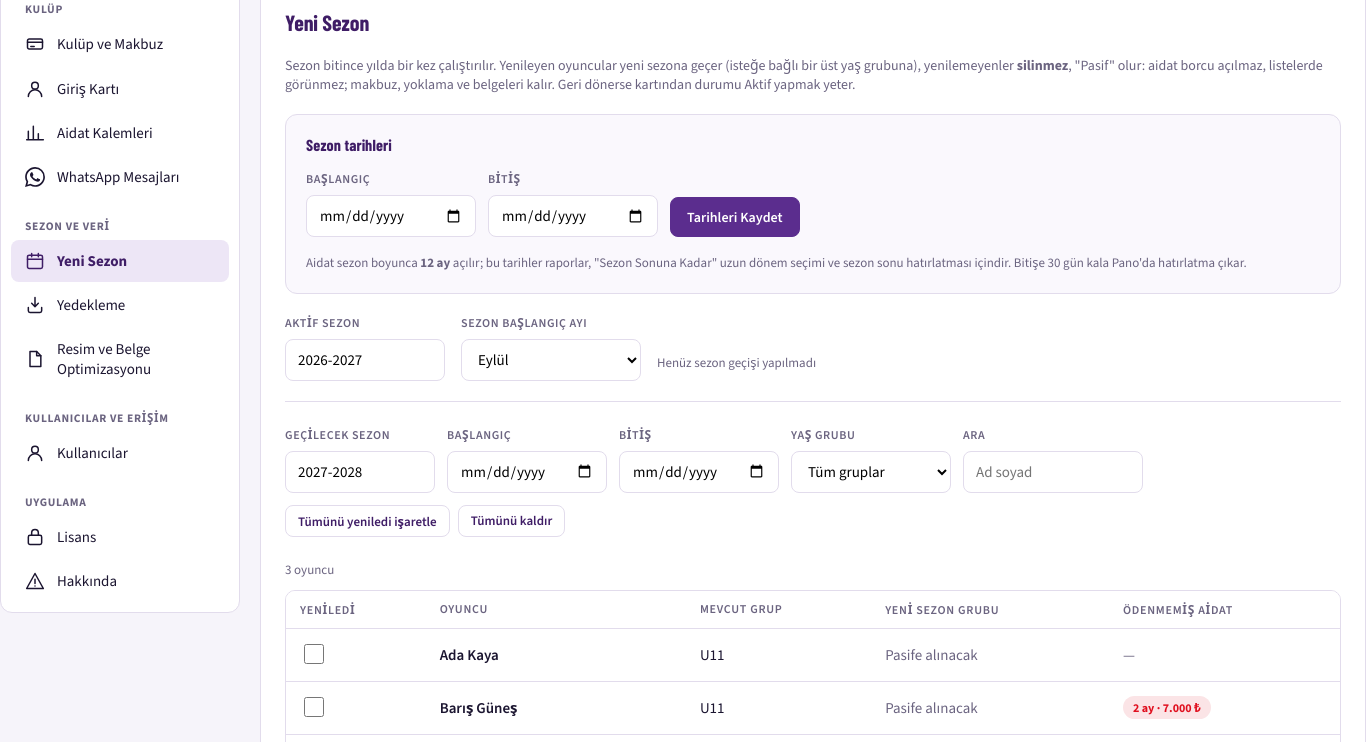
Scenario: Ayarlar > Yeni Sezon sihirbazı › yenileyenler işaretlenir, üst grup önerilir, geçiş tek çağrıyla yapılır
The image size is (1366, 742).
Expected: the field labelled "Geçilecek sezon" holds "2027-2028", [285,450,435,492]
Click the checkbox named "Ada Kaya yeniledi" at (314, 654), box [304,644,324,664]
(page scrolled)
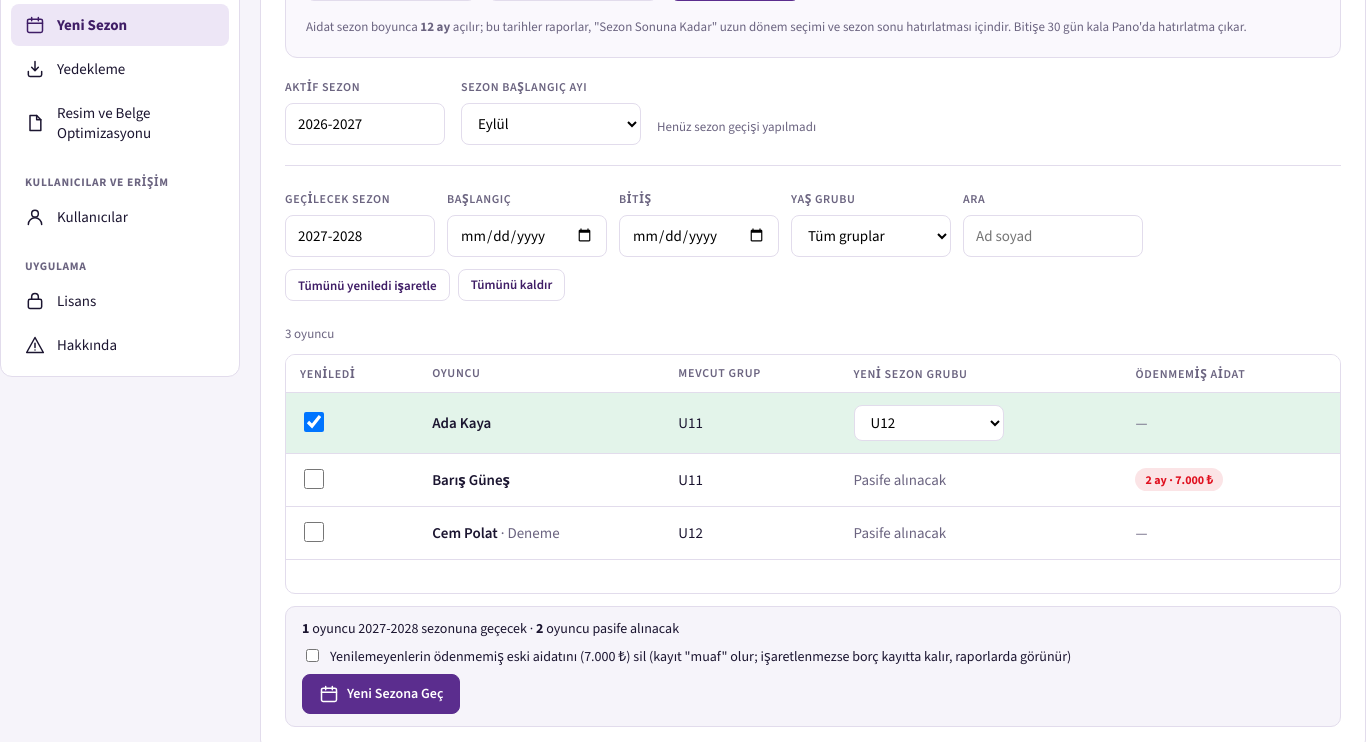
Click the checkbox named "Cem Polat yeniledi" at (314, 532), box [304,522,324,542]
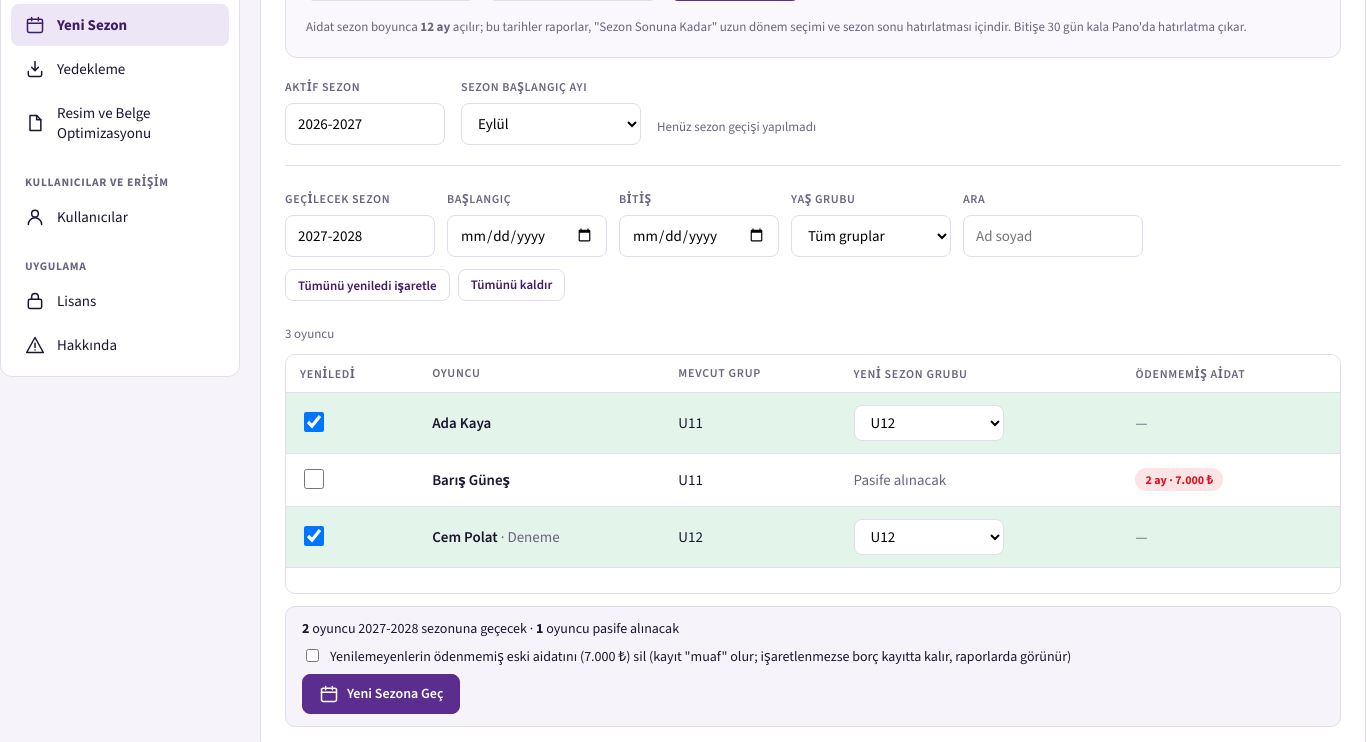
Now the dropdown named "Ada Kaya yeni grup" shows "U12", box [854,404,1004,440]
Now the dropdown named "Cem Polat yeni grup" shows "U12", box [854,518,1004,554]
Now the element with test id "sezon-ozet" reads "2 oyuncu 2027-2028 sezonuna geçecek · 1 oyuncu pasife alınacak", box [302,618,679,638]
Click the checkbox labelled "ödenmemiş eski aidatını" at (312, 656), box [306,649,319,662]
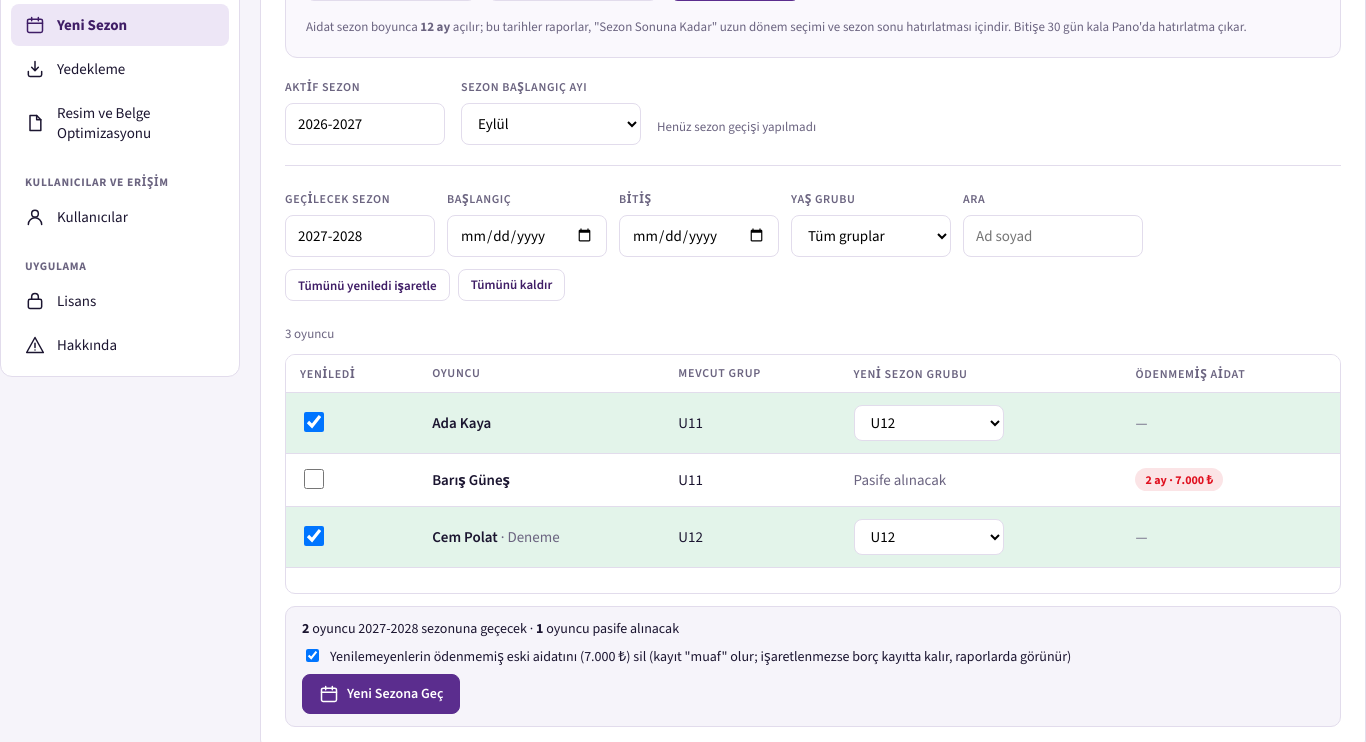
Click the button "Yeni Sezona Geç" at (381, 694), box [302,674,460,714]
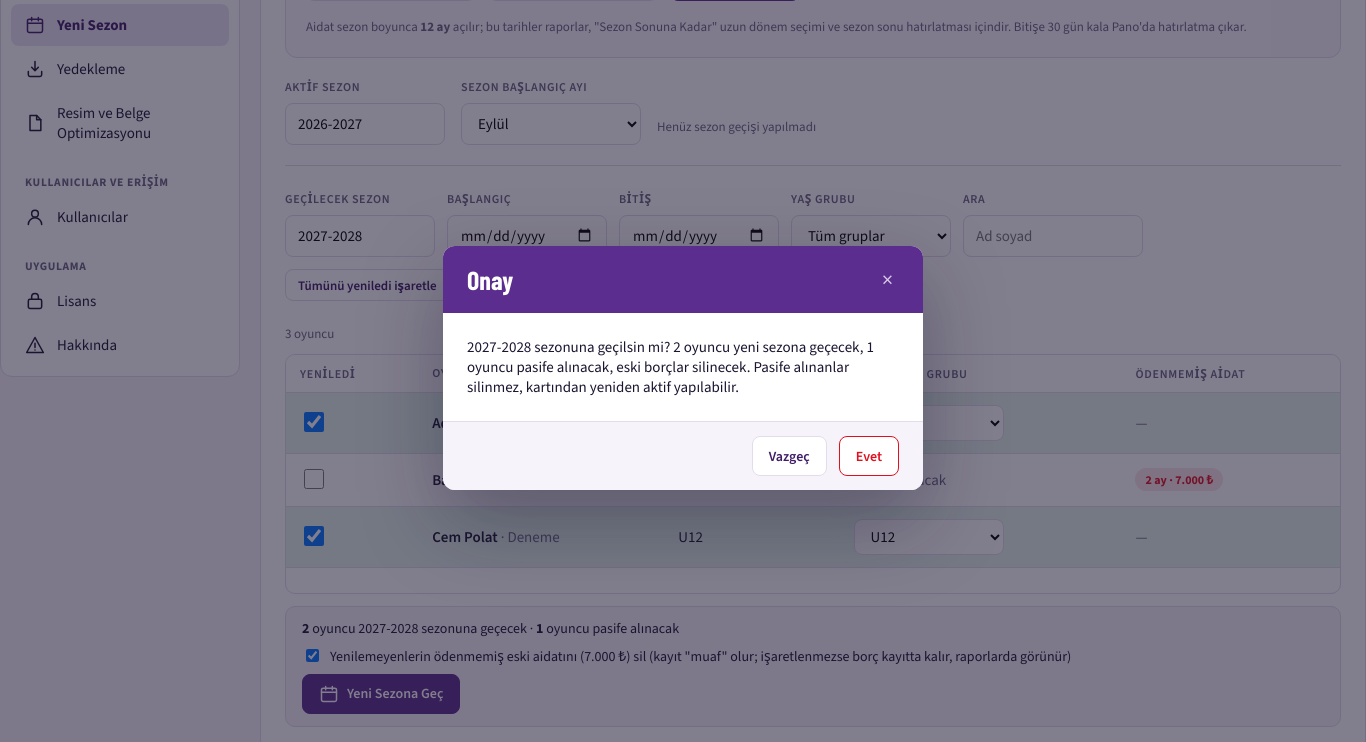
Now the dialog shows "2027-2028 sezonuna geçilsin mi", box [467,337,874,397]
Click the button "Evet" at (869, 456), box [839,436,899,476]
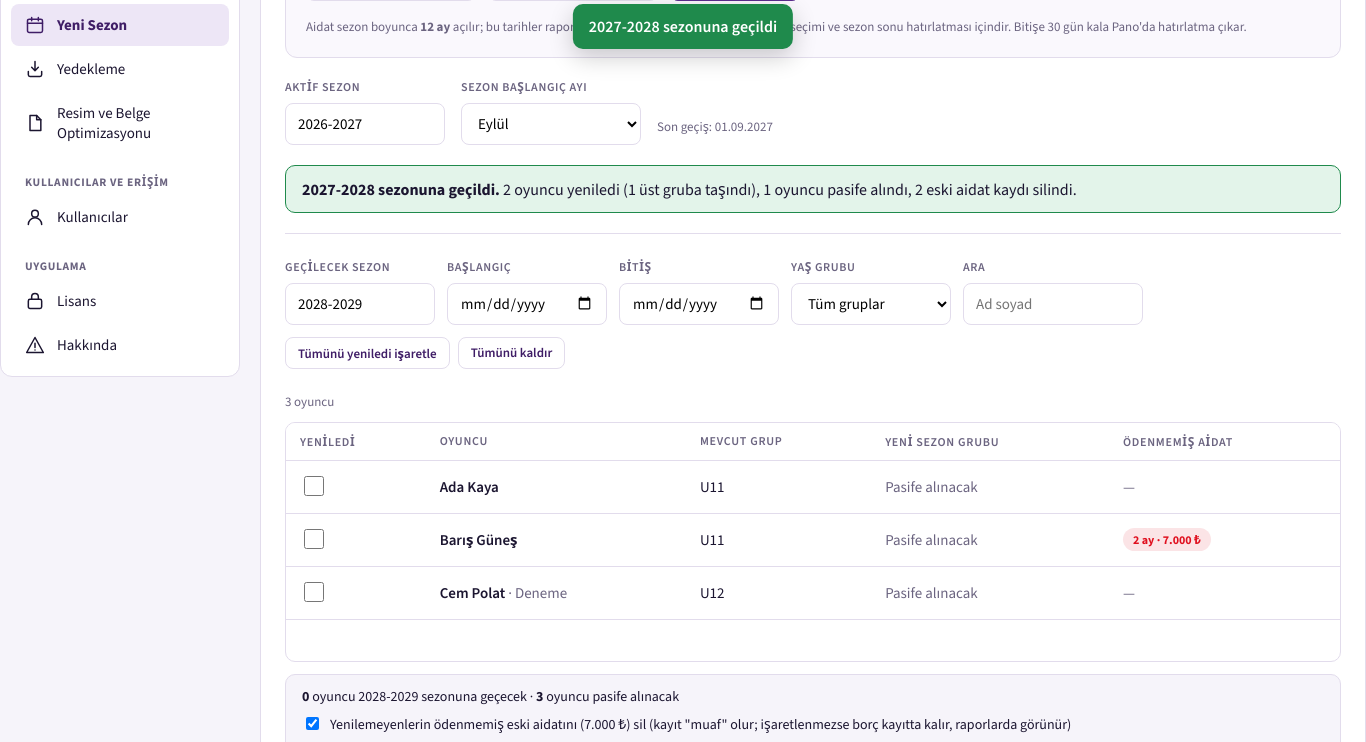
Now the text "2027-2028 sezonuna geçildi." is shown, box [302,178,500,200]
Now the text "2027-2028 sezonuna geçildi." shows "2 oyuncu yeniledi (1 üst gruba taşındı), 1 oyuncu pasife alındı, 2 eski aidat kaydı silindi", box [285,164,1341,212]
